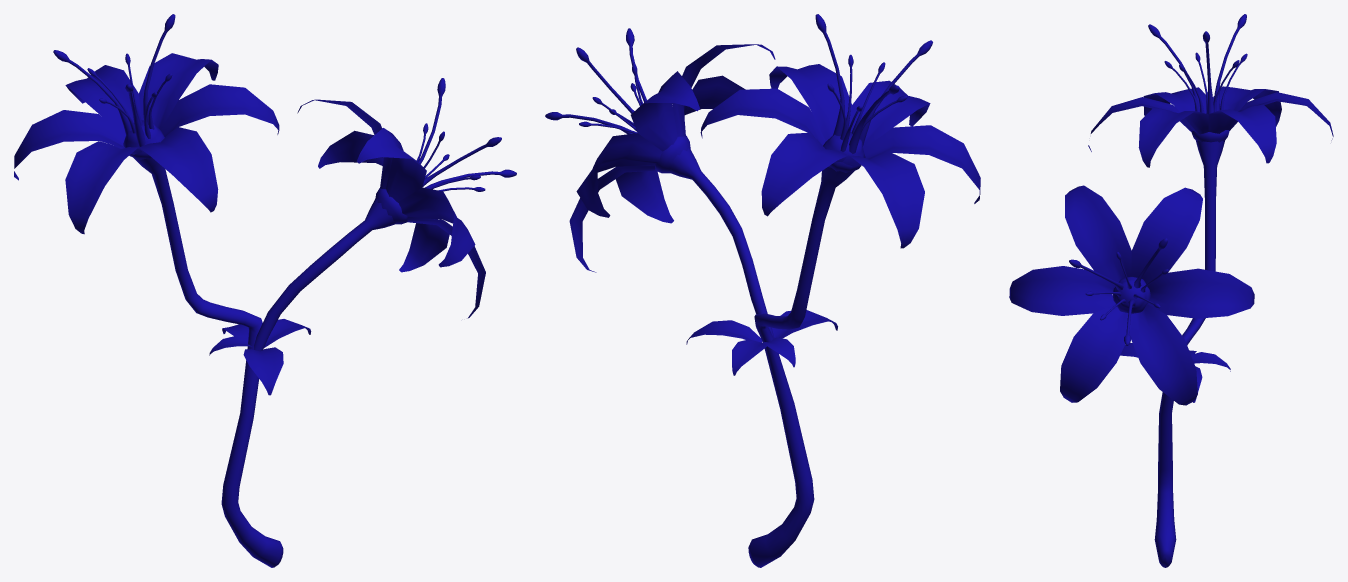
The model's file is SM_Cut_UmbrellaLilyFlower_01.fbx.
The picture shows the model from 3 angles, left to right: view 1: azimuth 30°, elevation 25°; view 2: azimuth 150°, elevation 25°; view 3: azimuth 270°, elevation 25°; orthographic projection. The views are drawn at different scales.
Visible parts, largest first — view 1: SM_Piece_000, SM_Piece_001, SM_Trash_001, SM_Piece_004; view 2: SM_Piece_000, SM_Piece_001, SM_Trash_001, SM_Piece_003, SM_Piece_005, SM_Piece_004; view 3: SM_Piece_001, SM_Piece_000, SM_Trash_001.
Part boxes in pixels (<box>): SM_Piece_000: <box>14,14,279,234</box>; SM_Piece_001: <box>297,78,516,318</box>; SM_Trash_001: <box>133,157,395,567</box>; SM_Piece_004: <box>243,347,283,395</box>; SM_Piece_000: <box>700,14,980,248</box>; SM_Piece_001: <box>545,28,775,272</box>; SM_Trash_001: <box>668,148,854,567</box>; SM_Piece_003: <box>686,320,762,344</box>; SM_Piece_005: <box>732,339,766,375</box>; SM_Piece_004: <box>772,310,837,338</box>; SM_Piece_001: <box>1009,185,1254,405</box>; SM_Piece_000: <box>1088,14,1333,167</box>; SM_Trash_001: <box>1154,140,1224,567</box>.
Size of the model in its own units: 137 by 170 by 99.58.
